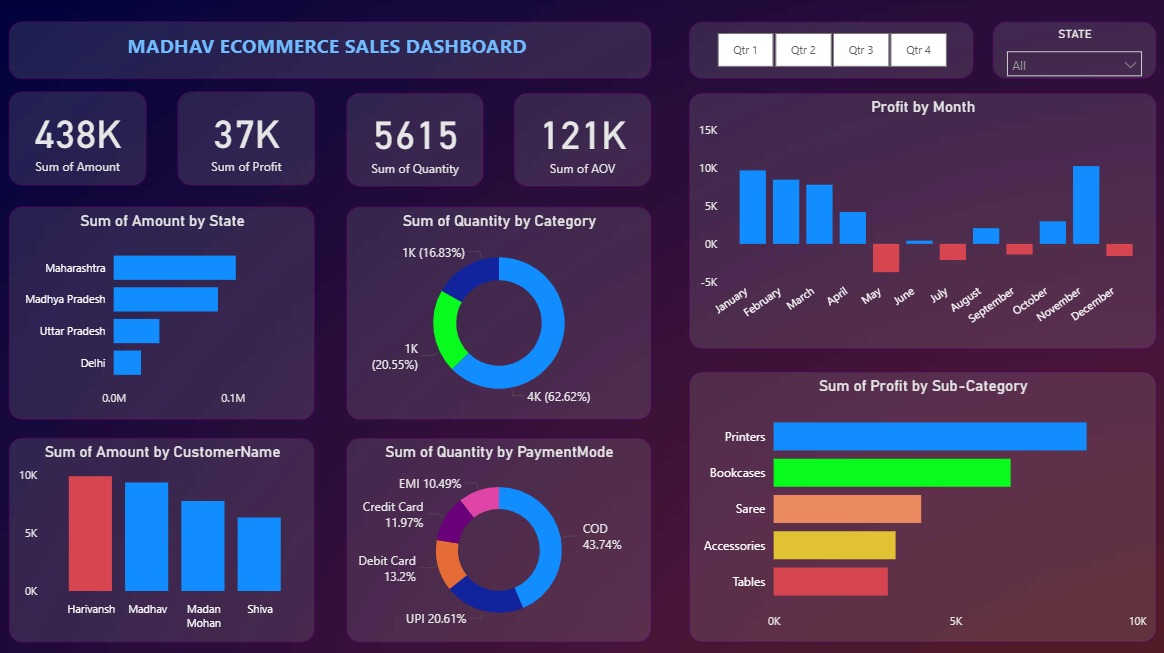

What the dashboard file says about the page in this screenshot:
{"tool":"powerbi","page":{"name":"Page 1","canvas":[1280,720],"ordinal":0},"visuals":[{"type":"textbox","box":[9.6,24.7,705.3,63.1],"z":0},{"type":"columnChart","title":"Profit by Month","fields":{"Y":["Details.Profit"],"Category":["Orders.Order Date.Variation.Date Hierarchy.Month"]},"box":[756.1,102.9,513.2,281.3],"z":1000},{"type":"barChart","fields":{"Category":["Details.Sub-Category"],"Y":["Details.Profit"]},"box":[756.1,408.9,513.2,297.8],"z":2000},{"type":"donutChart","fields":{"Category":["Details.Category"],"Y":["Details.Quantity"]},"box":[380.1,227.8,334.8,234.6],"z":3000},{"type":"donutChart","fields":{"Category":["Details.PaymentMode","Details.Category"],"Y":["Details.Quantity"]},"box":[380.1,481.6,334.8,225],"z":4000},{"type":"card","fields":{"Values":["Details.Amount"]},"box":[9.6,101.5,150.9,102.9],"z":5000},{"type":"card","fields":{"Values":["Details.Quantity"]},"box":[379.6,102.9,150.9,102.9],"z":6000},{"type":"card","fields":{"Values":["Details.Profit"]},"box":[194.6,102,150.9,102.9],"z":7000},{"type":"card","fields":{"Values":["Details.AOV"]},"box":[564.5,102.5,150.9,102.9],"z":8000},{"type":"barChart","fields":{"Category":["Orders.State"],"Y":["Details.Amount"]},"box":[9.6,227.8,336.2,234.6],"z":9000},{"type":"columnChart","fields":{"Category":["Orders.CustomerName"],"Y":["Details.Amount"]},"box":[9.6,481.6,336.2,225],"z":10000},{"type":"slicer","fields":{"Values":["Orders.Order Date.Variation.Date Hierarchy.Quarter"]},"box":[756.1,24.7,312.9,63.1],"z":11000},{"type":"slicer","title":"STATE","fields":{"Values":["Orders.State"]},"box":[1089.5,24.7,179.8,63.1],"z":12000}]}

Visuals, with their boxes in screenshot pixels (x1, y1, x2, y2), scaled from the page's 1280x720 canvas onto the 1164x653 screenshot:
textbox: box(9, 22, 650, 80)
"Profit by Month" columnChart: box(688, 93, 1154, 348)
barChart - Details.Sub-Category x Details.Profit: box(688, 371, 1154, 641)
donutChart - Details.Category x Details.Quantity: box(346, 207, 650, 419)
donutChart - Details.PaymentMode x Details.Category: box(346, 437, 650, 641)
card - Details.Amount: box(9, 92, 146, 185)
card - Details.Quantity: box(345, 93, 482, 187)
card - Details.Profit: box(177, 93, 314, 186)
card - Details.AOV: box(513, 93, 651, 186)
barChart - Orders.State x Details.Amount: box(9, 207, 314, 419)
columnChart - Orders.CustomerName x Details.Amount: box(9, 437, 314, 641)
slicer - Orders.Order Date.Variation.Date Hierarchy.Quarter: box(688, 22, 972, 80)
"STATE" slicer: box(991, 22, 1154, 80)
